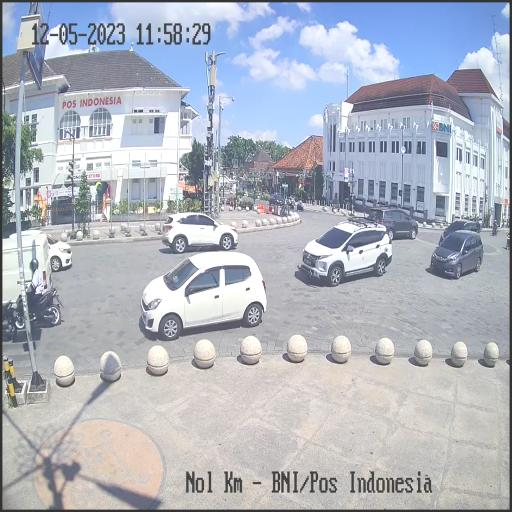mobil: (140, 247, 264, 334), (298, 210, 393, 280), (162, 203, 232, 254), (428, 229, 484, 279), (369, 207, 420, 241)
motor: (14, 276, 63, 338)
